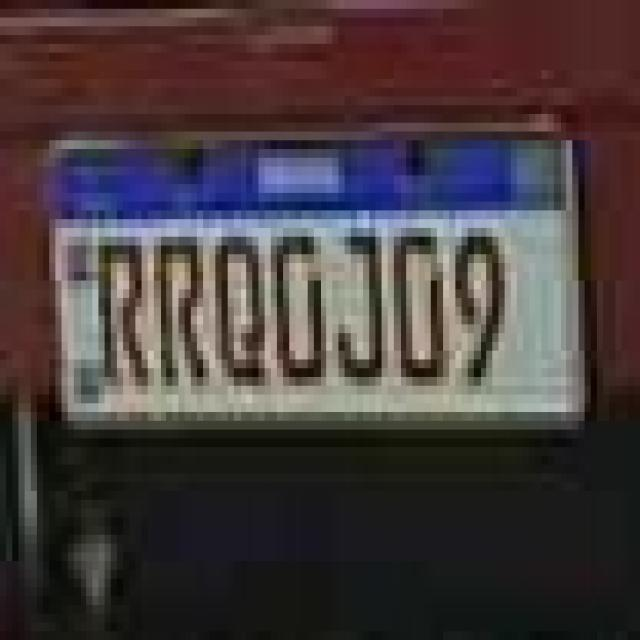0: (392, 218, 448, 392), (270, 227, 329, 392)
9: (453, 218, 508, 388)
J: (329, 220, 388, 391)
Q: (214, 232, 270, 397)
R: (150, 229, 210, 395), (96, 233, 152, 392)
